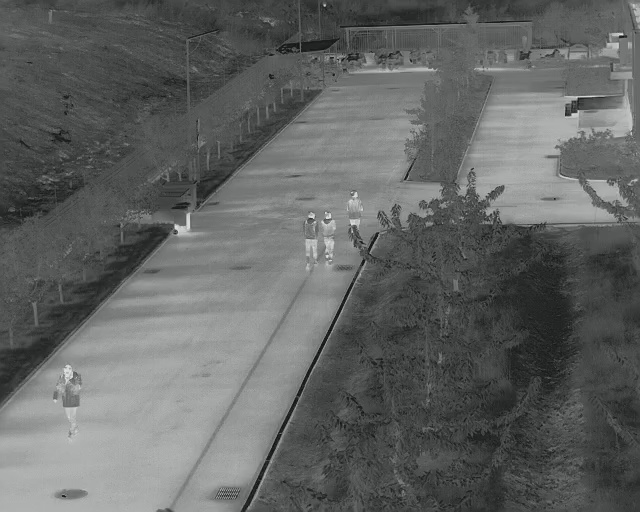person: (52, 361, 85, 440), (299, 209, 320, 270), (320, 211, 336, 266), (346, 189, 364, 232)
